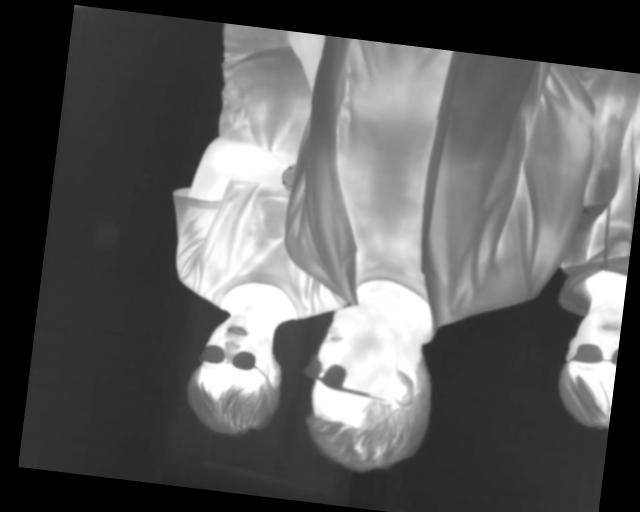face: (299, 301, 444, 482), (184, 307, 288, 442), (553, 302, 622, 431)
